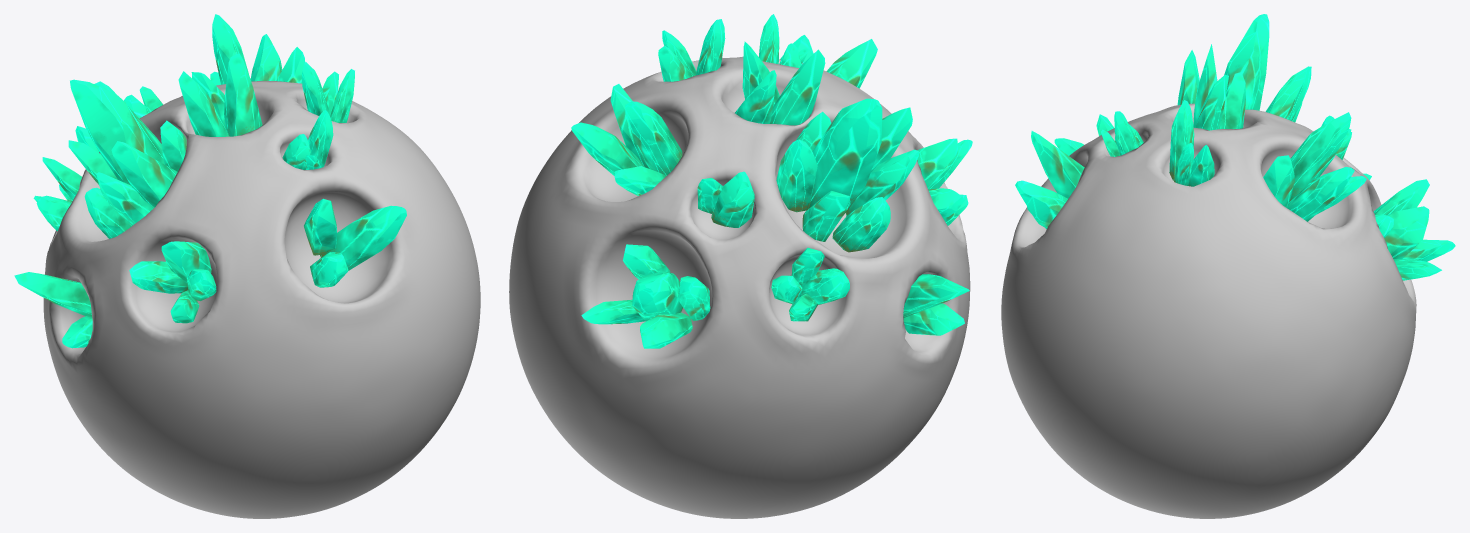
Rendered from Meteorite.gltf.
3 renders of one model, left to right at view 1: azimuth 30°, elevation 25°; view 2: azimuth 150°, elevation 25°; view 3: azimuth 270°, elevation 25°, orthographic. The views are drawn at different scales.
Parts seen in each view (by area): view 1: Meteorite, CrystalA1, CrystalA9, CrystalC6, CrystalC3, CrystalC4, CrystalC7, CrystalA2, CrystalC13, CrystalB12, CrystalC14, CrystalB7 (+16 smaller); view 2: Meteorite, CrystalA1, CrystalB7, CrystalC7, CrystalB2, CrystalB1, CrystalA11, CrystalA7, CrystalA2, CrystalA6, CrystalC4, CrystalC1 (+24 smaller); view 3: Meteorite, CrystalA1, CrystalB7, CrystalA7, CrystalC13, CrystalA11, CrystalA9, CrystalB2, CrystalB9, CrystalC9, CrystalC8, CrystalC6 (+8 smaller).
Part boxes in pixels (left/top/right/bottom): Meteorite: left=43, top=80, right=480, bottom=518; CrystalA1: left=70, top=79, right=164, bottom=185; CrystalA9: left=320, top=205, right=406, bottom=270; CrystalC6: left=224, top=53, right=262, bottom=136; CrystalC3: left=111, top=141, right=177, bottom=208; CrystalC4: left=14, top=272, right=91, bottom=316; CrystalC7: left=178, top=71, right=229, bottom=136; CrystalA2: left=96, top=172, right=153, bottom=225; CrystalC13: left=304, top=198, right=337, bottom=255; CrystalB12: left=129, top=261, right=188, bottom=293; CrystalC14: left=161, top=241, right=211, bottom=283; CrystalB7: left=212, top=14, right=248, bottom=84; Meteorite: left=509, top=56, right=970, bottom=518; CrystalA1: left=809, top=98, right=882, bottom=215; CrystalB7: left=625, top=101, right=682, bottom=175; CrystalC7: left=769, top=49, right=825, bottom=125; CrystalB2: left=776, top=139, right=817, bottom=212; CrystalB1: left=832, top=197, right=890, bottom=252; CrystalA11: left=632, top=271, right=683, bottom=321; CrystalA7: left=571, top=122, right=643, bottom=175; CrystalA2: left=846, top=149, right=919, bottom=215; CrystalA6: left=711, top=171, right=754, bottom=227; CrystalC4: left=903, top=274, right=969, bottom=317; CrystalC1: left=802, top=191, right=850, bottom=241; Meteorite: left=1001, top=103, right=1416, bottom=518; CrystalA1: left=1224, top=14, right=1269, bottom=110; CrystalB7: left=1290, top=112, right=1351, bottom=200; CrystalA7: left=1287, top=167, right=1354, bottom=221; CrystalC13: left=1031, top=131, right=1084, bottom=198; CrystalA11: left=1384, top=206, right=1429, bottom=259; CrystalA9: left=1015, top=180, right=1067, bottom=228; CrystalB2: left=1265, top=66, right=1311, bottom=120; CrystalB9: left=1169, top=100, right=1194, bottom=180; CrystalC9: left=1263, top=155, right=1294, bottom=207; CrystalC8: left=1219, top=72, right=1245, bottom=129; CrystalC6: left=1194, top=74, right=1228, bottom=130.
Bounding box in the file's own units: 12.12 × 12.26 × 12.
